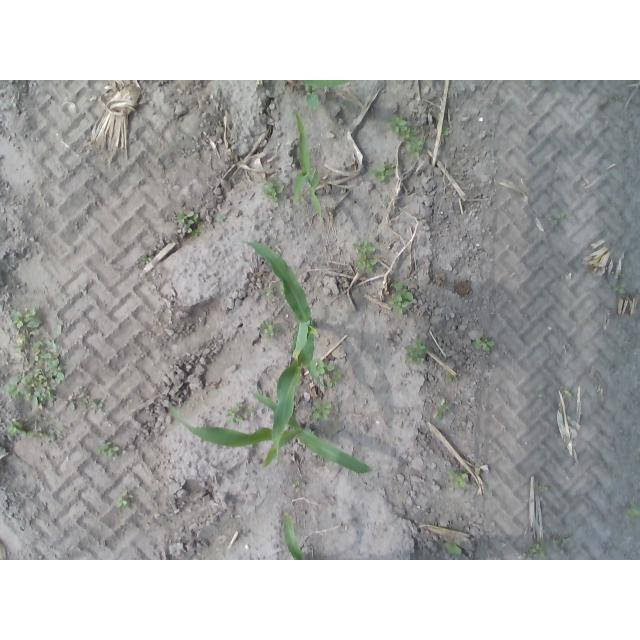Maize: (174, 391, 375, 474), (244, 242, 316, 467), (290, 114, 330, 218), (280, 513, 308, 560), (301, 80, 348, 88)
Weeds: (11, 332, 65, 416), (12, 309, 41, 332), (404, 342, 424, 365), (262, 183, 285, 202), (31, 427, 58, 443), (388, 295, 410, 314), (354, 241, 377, 259), (372, 163, 393, 182), (101, 439, 120, 459), (433, 398, 452, 418), (314, 402, 333, 420), (408, 138, 425, 157), (452, 471, 469, 489), (9, 420, 27, 437), (226, 405, 242, 424), (318, 358, 335, 375), (357, 260, 378, 273), (262, 321, 280, 336), (389, 118, 407, 133), (395, 284, 414, 298), (89, 398, 105, 414), (445, 540, 462, 555), (473, 339, 495, 350), (330, 369, 342, 388), (306, 93, 319, 110), (264, 285, 278, 300), (178, 211, 194, 224), (64, 397, 77, 411), (549, 212, 564, 224), (612, 283, 627, 294), (188, 225, 201, 237), (400, 126, 411, 140), (624, 507, 639, 517), (247, 406, 258, 419), (532, 545, 544, 556), (117, 497, 128, 507), (216, 213, 226, 222), (141, 257, 152, 265), (444, 127, 450, 136), (539, 485, 548, 491), (447, 374, 453, 382), (294, 481, 301, 487), (615, 95, 622, 101), (619, 273, 625, 278)
